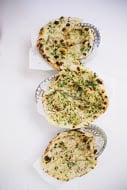salad: (39, 125, 107, 182)
